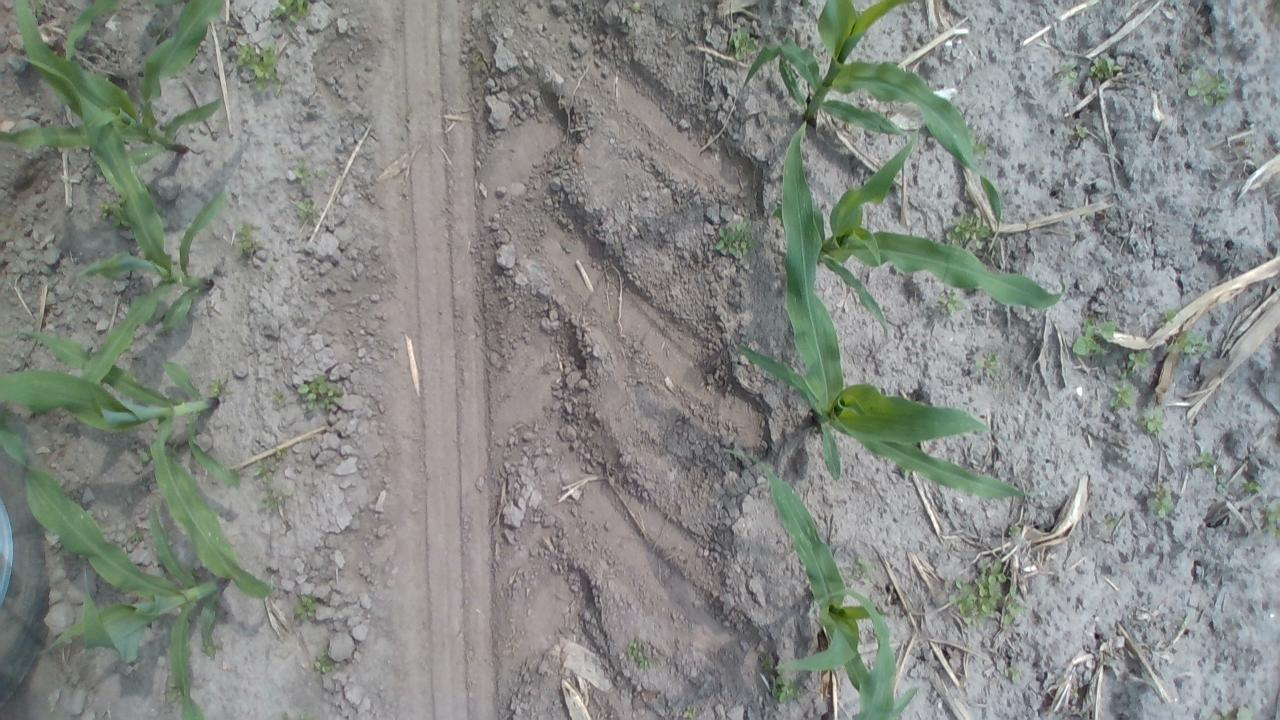Maize: (726, 117, 1068, 510), (0, 323, 278, 600), (18, 49, 234, 384), (0, 413, 235, 720), (742, 1, 1011, 230), (811, 128, 1068, 340), (718, 446, 916, 720), (0, 0, 226, 177), (808, 586, 902, 720)
Weeds: (946, 556, 1024, 634), (252, 459, 294, 520), (236, 43, 285, 93), (714, 214, 764, 262), (943, 208, 990, 255), (296, 373, 345, 418), (1070, 316, 1118, 358), (1188, 69, 1234, 107), (926, 286, 971, 320), (623, 638, 659, 678), (94, 195, 132, 232), (1166, 330, 1210, 360), (1084, 50, 1123, 82), (293, 161, 329, 193), (728, 28, 759, 64), (270, 0, 316, 24), (234, 222, 266, 256), (1106, 384, 1140, 413), (292, 592, 324, 622), (1148, 485, 1177, 518), (969, 349, 1002, 378), (770, 676, 800, 706), (1121, 352, 1152, 381), (1136, 408, 1170, 434), (160, 677, 192, 704), (312, 645, 339, 675), (850, 553, 880, 580), (1262, 501, 1280, 543), (288, 200, 322, 221), (1188, 449, 1217, 473), (1070, 118, 1095, 142), (280, 708, 327, 720), (1054, 62, 1077, 84), (1003, 664, 1027, 685), (204, 640, 228, 660), (126, 526, 150, 546), (1156, 308, 1179, 328), (1212, 472, 1230, 497), (758, 651, 776, 676), (1228, 704, 1256, 720), (270, 390, 292, 410), (1242, 478, 1264, 498), (1102, 512, 1122, 532), (1003, 524, 1024, 542), (1174, 616, 1192, 634), (208, 378, 224, 397), (676, 705, 696, 720), (270, 446, 288, 462), (264, 263, 276, 272)
